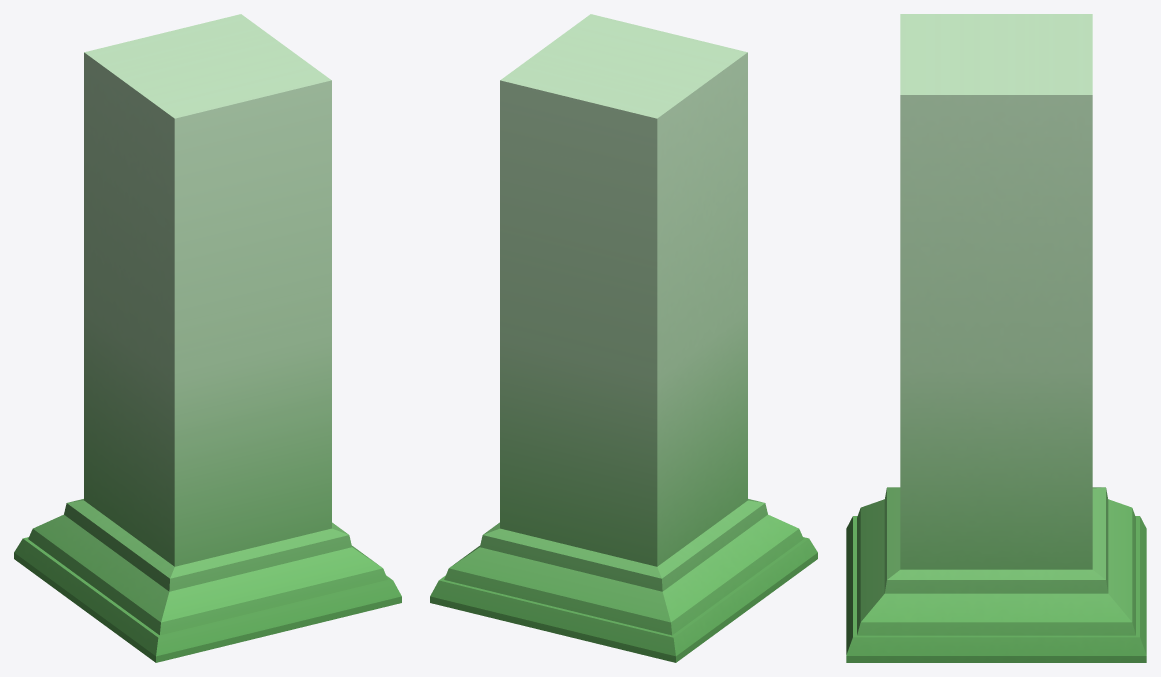
Rendered from Mod_Pillar_04.fbx.
3 renders of one model, left to right at view 1: azimuth 30°, elevation 25°; view 2: azimuth 150°, elevation 25°; view 3: azimuth 270°, elevation 25°, orthographic. The views are drawn at different scales.
Visible parts, largest first — view 1: Mod_Pillar_04; view 2: Mod_Pillar_04; view 3: Mod_Pillar_04.
Boxes of the visible parts, bbox=[...] form: Mod_Pillar_04: bbox=[14, 14, 401, 662]; Mod_Pillar_04: bbox=[430, 14, 817, 662]; Mod_Pillar_04: bbox=[846, 14, 1146, 662].
Size of the model in its own units: 100 by 200 by 100.
